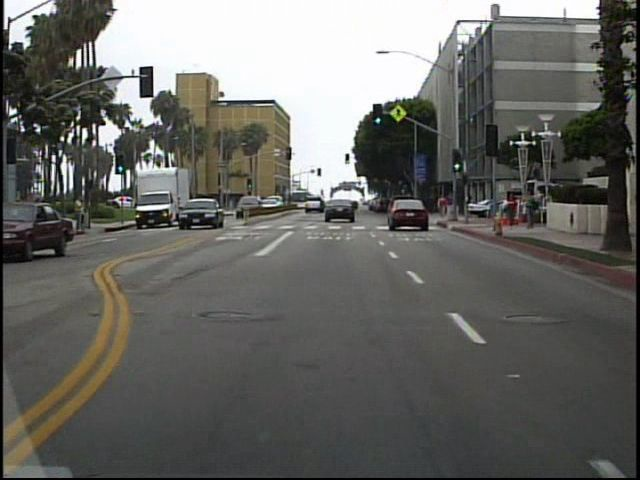person: (72, 194, 90, 238), (435, 195, 451, 219)
